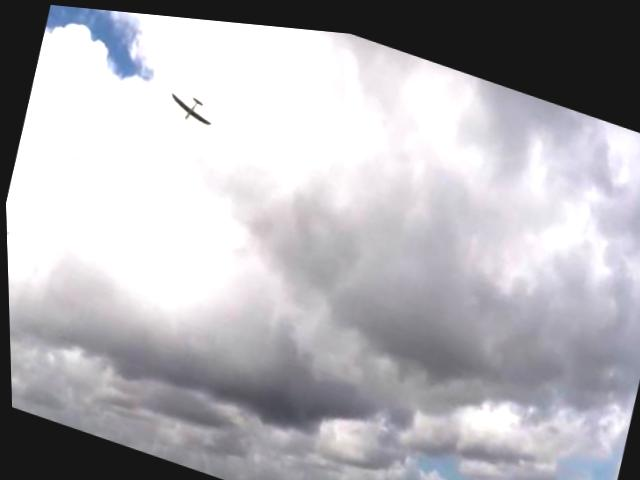iha: (163, 79, 222, 131)
